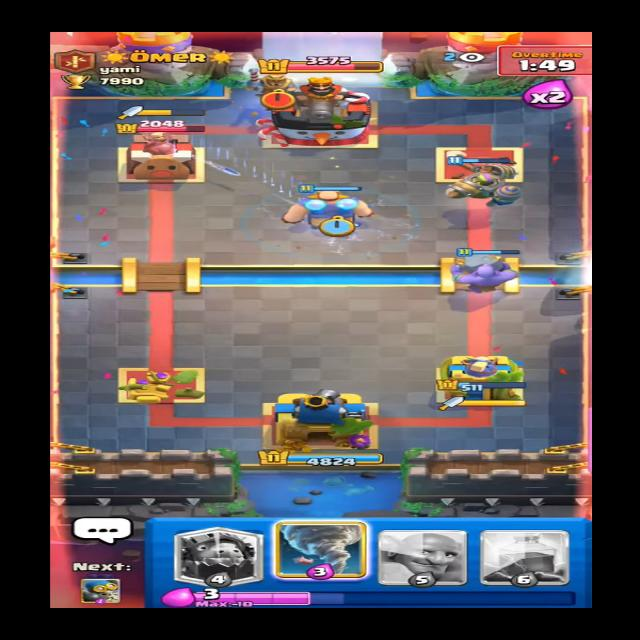Prince: (241, 64, 298, 111)
